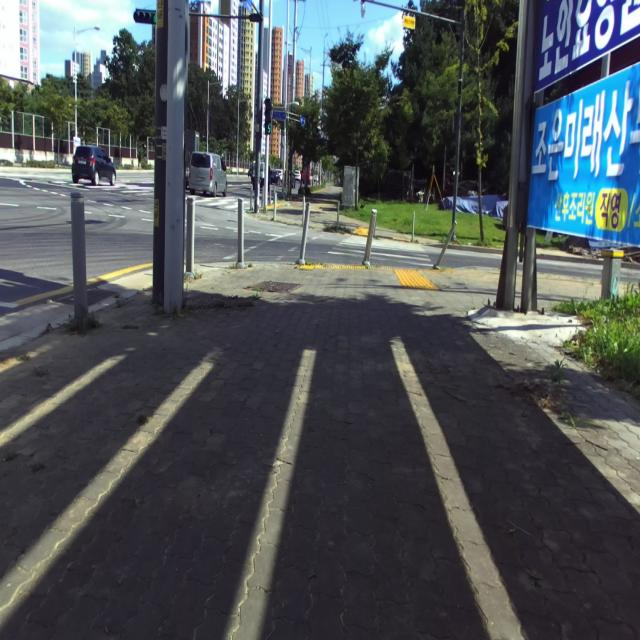횡단보도: (328, 234, 433, 267)
